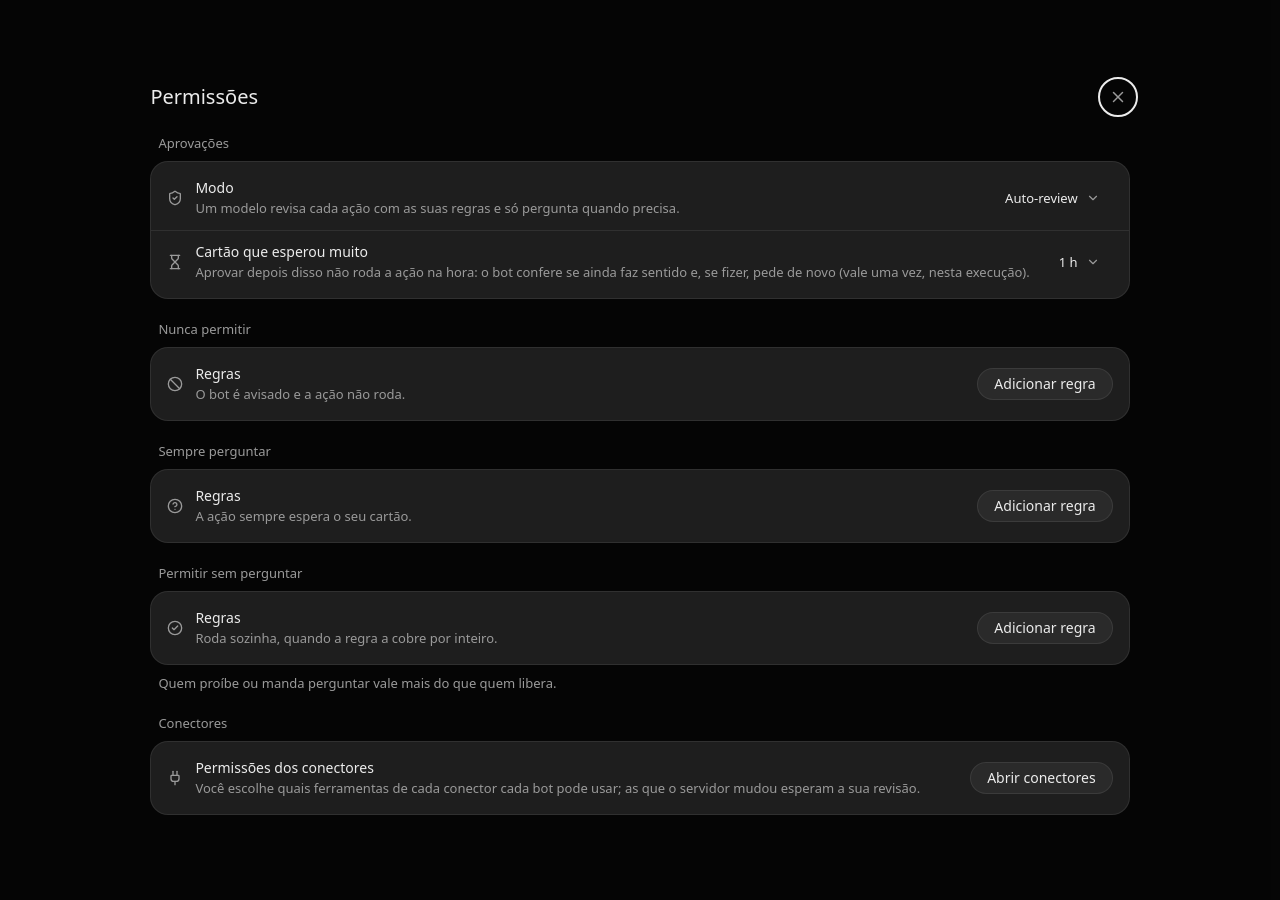
Permissões: the card that waited too long › changes at once and sends only the limit
What coordinates should you click on to do the following:
click the dropdown with test id "approval-stale"
I would click on:
 (1079, 262)
Its box is [1046, 246, 1113, 278].
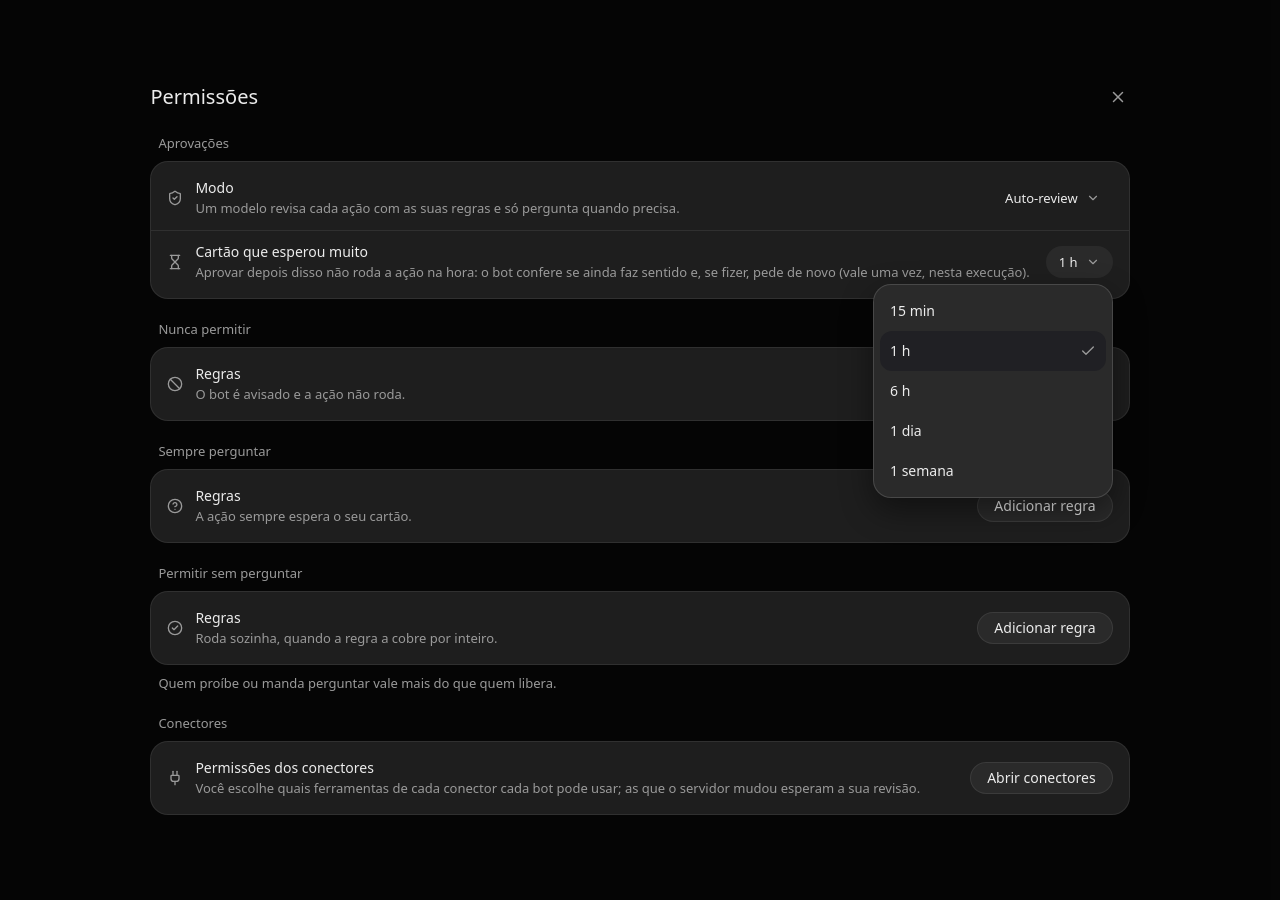
What coordinates should you click on to do the following:
click the option "1 dia"
I would click on:
 (906, 430)
Its box is [890, 421, 922, 440].
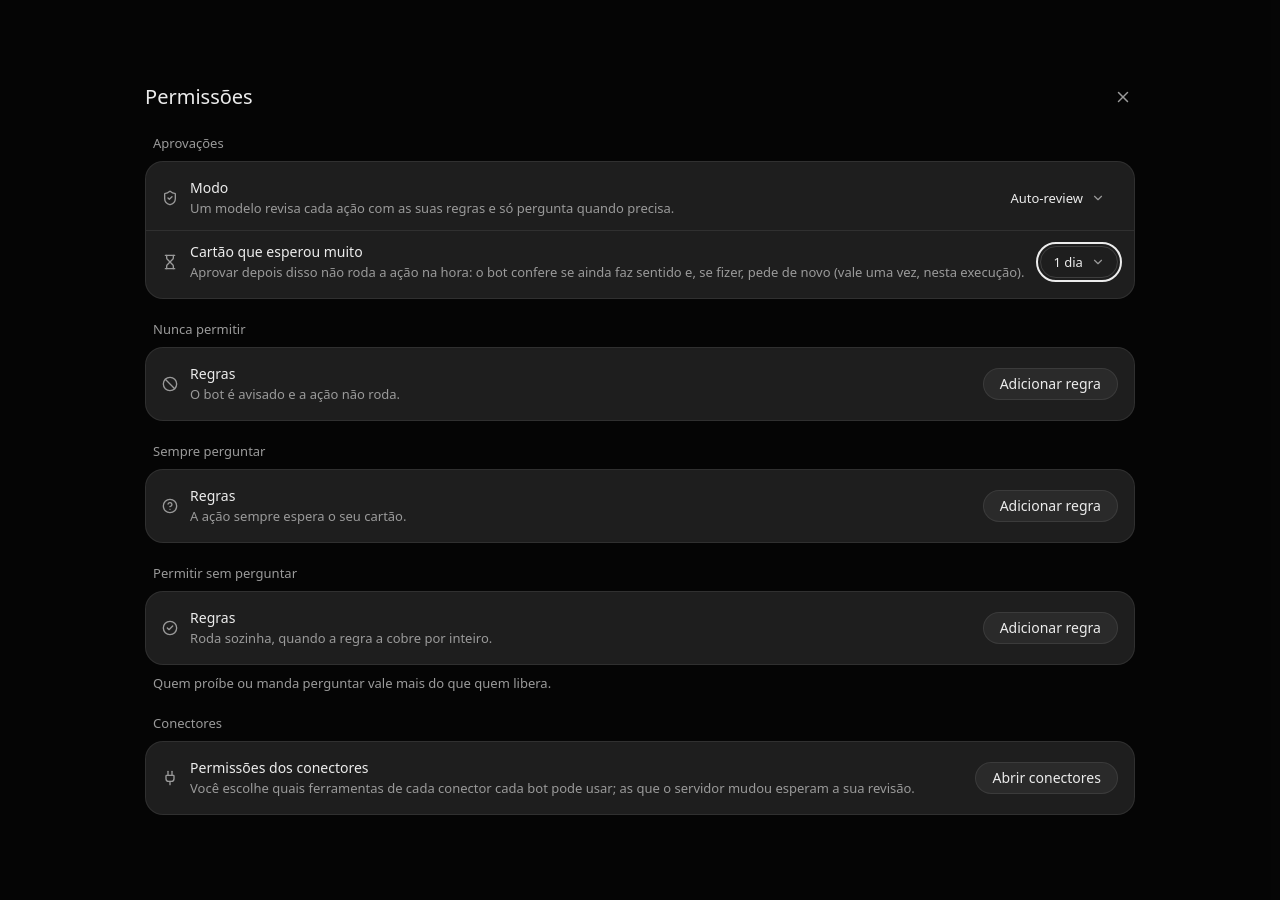
Expected: the dropdown with test id "approval-stale" reads "1 dia", [1040, 246, 1118, 278]
